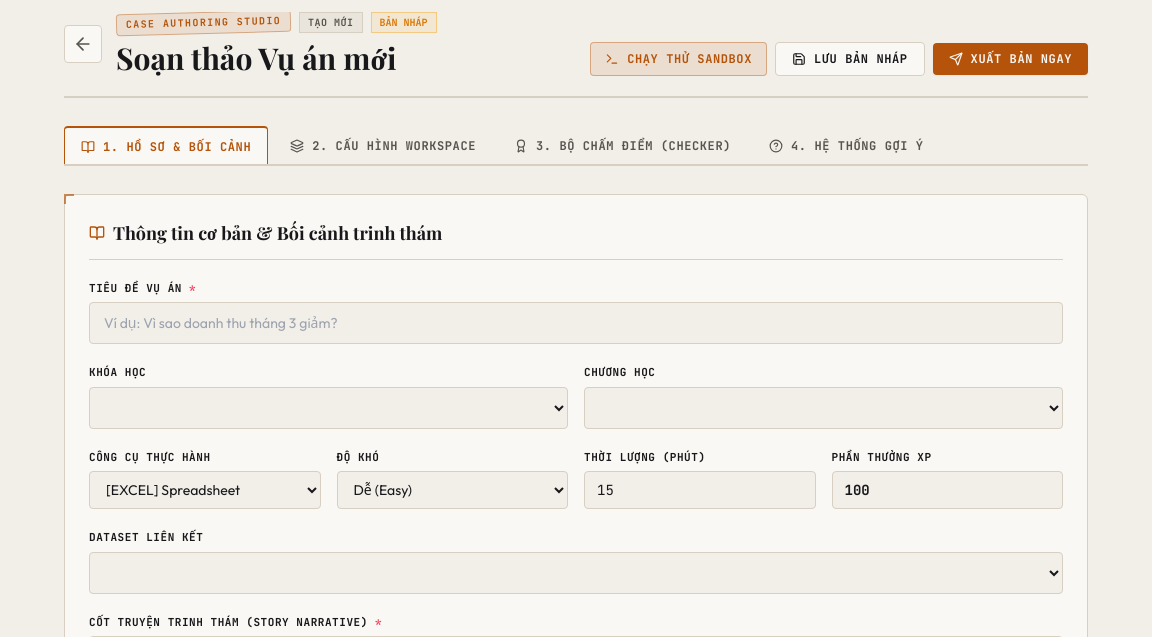
it: AdminMissionEditorPage Component Tests › chuyển tab và hiển thị các trường cấu hình phù hợp
Expected: the button "1. Hồ sơ & Bối cảnh" is shown, [64, 126, 268, 166]
// Click Tab 2
Click the button "2. Cấu hình Workspace". click: (383, 145)
box: [274, 126, 492, 164]
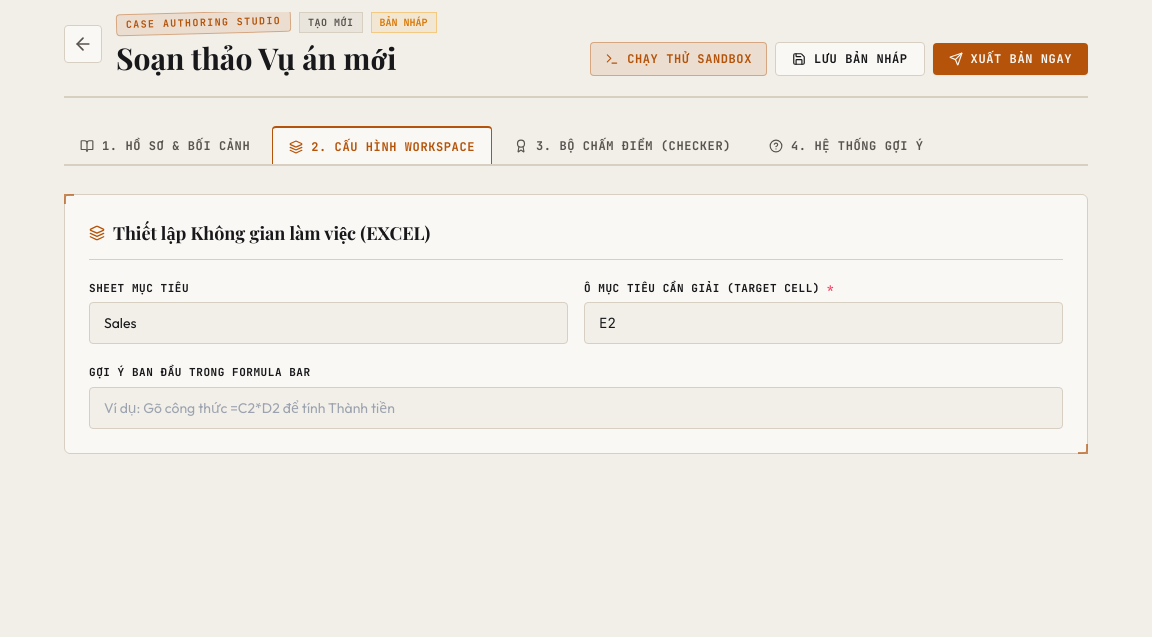
Expected: the heading "Thiết lập Không gian làm việc (EXCEL)" is shown, [89, 219, 1063, 260]
Expected: the text "Ô mục tiêu cần giải (Target Cell) *" is shown, [584, 281, 834, 295]
// Click Tab 3
Click the button "3. Bộ chấm điểm (Checker)". click: (622, 145)
box: [498, 126, 747, 164]
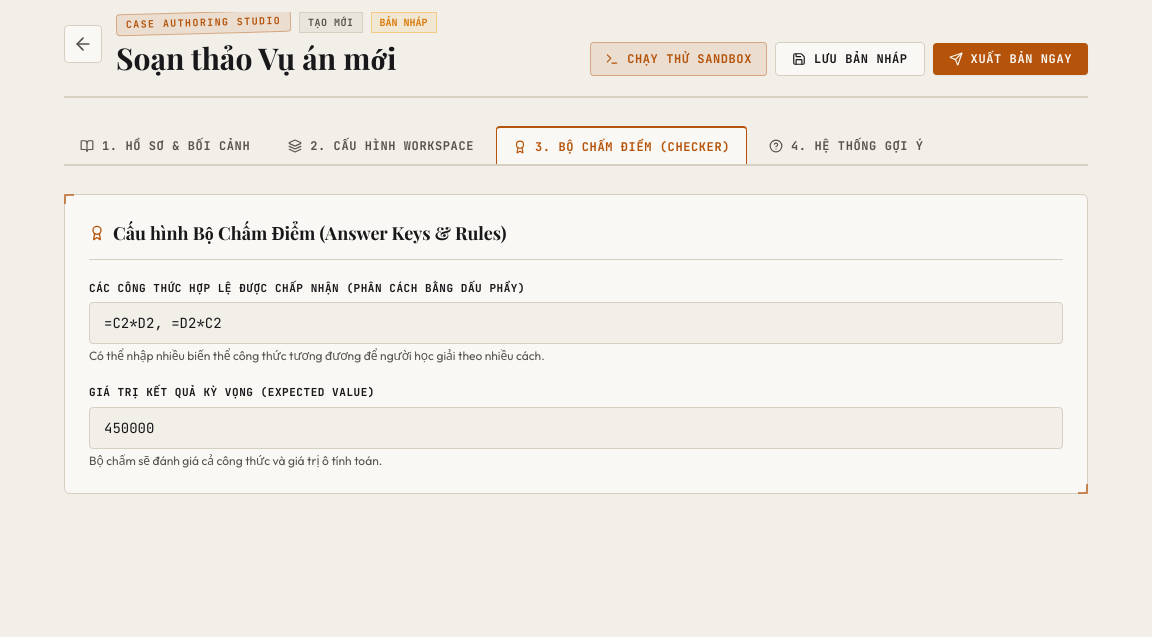
Expected: the heading "Cấu hình Bộ Chấm Điểm (Answer Keys & Rules)" is shown, [89, 219, 1063, 260]
Expected: the text "Các công thức hợp lệ được chấp nhận" is shown, [89, 281, 525, 295]
// Click Tab 4
Click the button "4. Hệ thống gợi ý". click: (846, 145)
box: [753, 126, 940, 164]
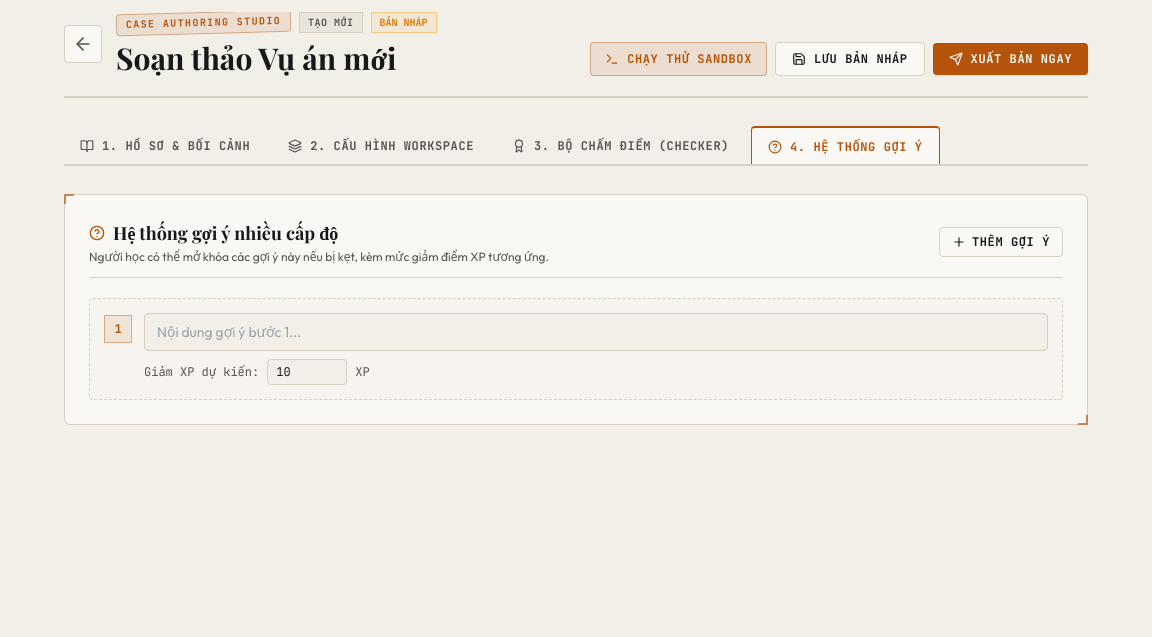
Expected: the heading "Hệ thống gợi ý nhiều cấp độ" is shown, [89, 221, 338, 245]
